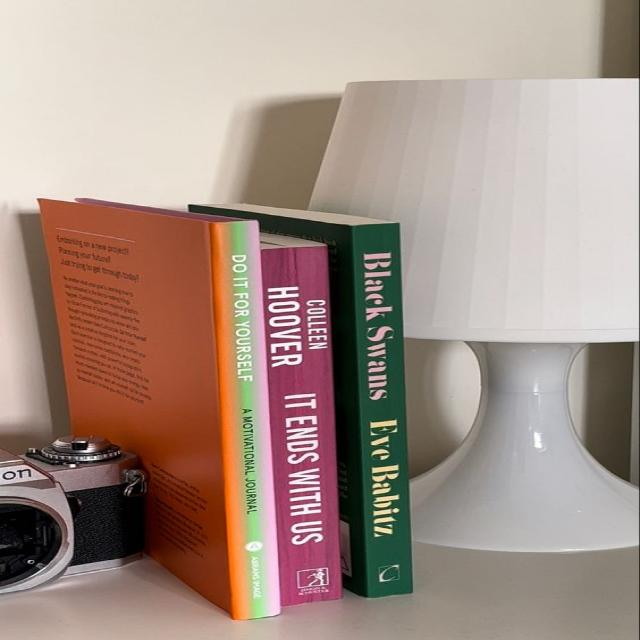book: (266, 246, 344, 607), (213, 222, 281, 620), (351, 224, 416, 600)
camera: (0, 438, 145, 594)
